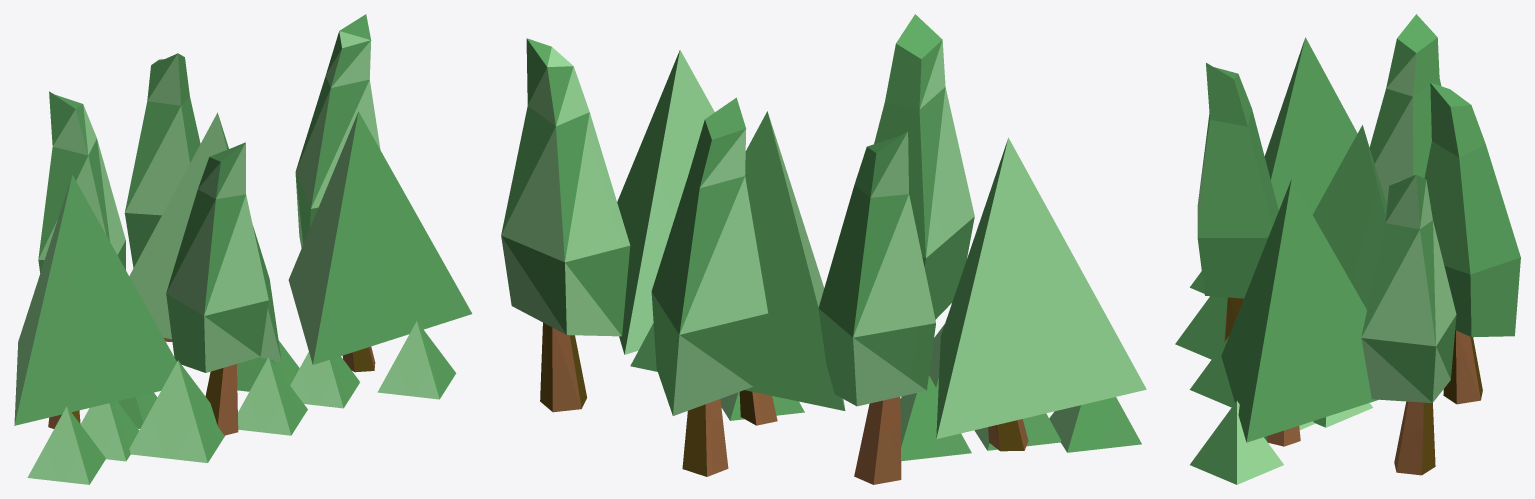
The model's file is treess.glb.
The picture shows the model from 3 angles, left to right: view 1: azimuth 30°, elevation 25°; view 2: azimuth 150°, elevation 25°; view 3: azimuth 270°, elevation 25°; orthographic projection. The views are drawn at different scales.
Parts seen in each view (by area): view 1: Cube.003; view 2: Cube.003; view 3: Cube.003.
Boxes of the visible parts, <box> form: Cube.003: <box>14,14,472,484</box>; Cube.003: <box>501,14,1146,484</box>; Cube.003: <box>1175,14,1520,484</box>.
Size of the model in its own units: 8.87 by 5.5 by 5.59.
Materials: 3 (3 with a texture image).
